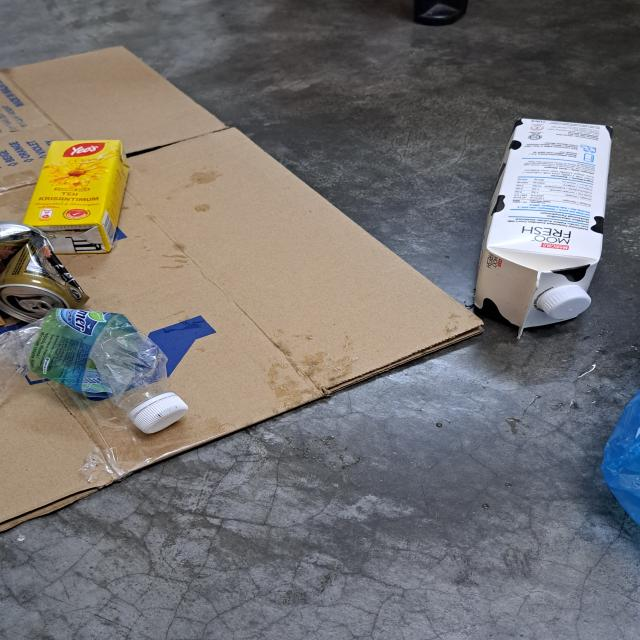can: (0, 224, 89, 338)
cardboard: (0, 46, 486, 534)
drink carton: (475, 116, 612, 340), (27, 140, 130, 252)
plastic bottle: (0, 306, 188, 438)
plastic bottle cap: (132, 390, 185, 435), (543, 287, 590, 321)
